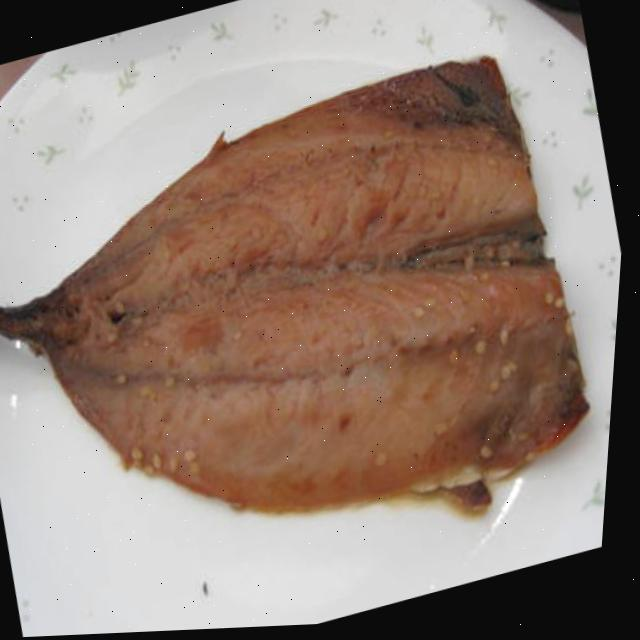熟制海鲜: (0, 7, 638, 640)
